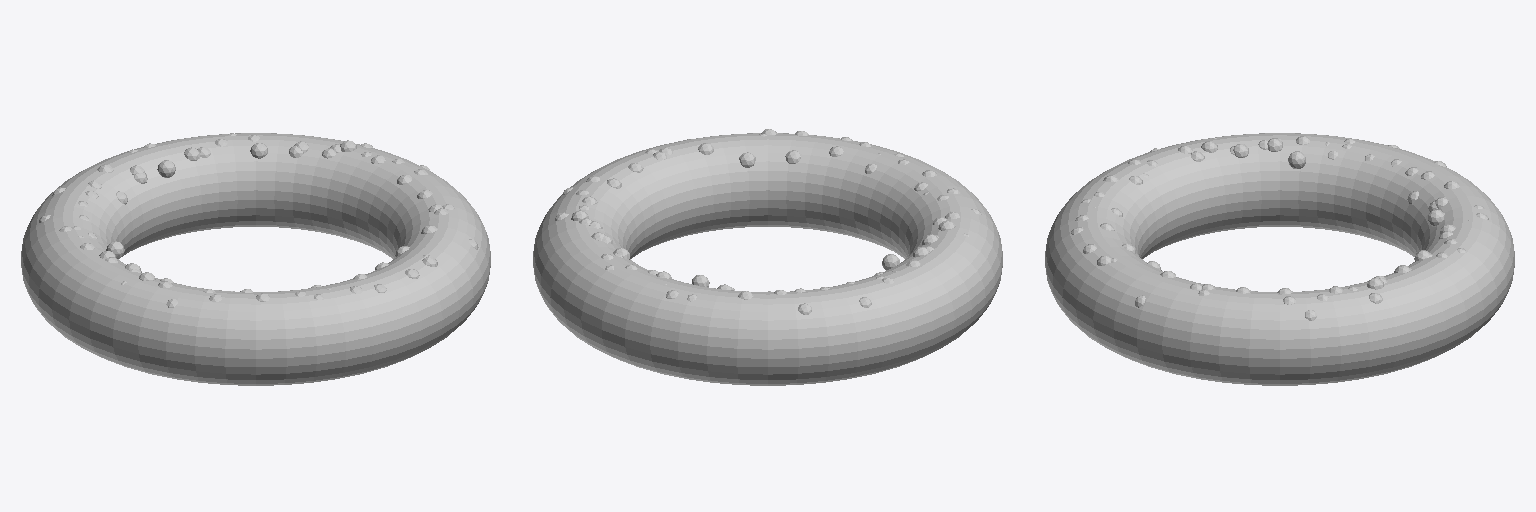
Rendered from donut1.obj.
3 views of the same model, side by side, from view 1: azimuth 30°, elevation 25°; view 2: azimuth 150°, elevation 25°; view 3: azimuth 270°, elevation 25° (orthographic).
Visible parts, largest first — view 1: Torus; view 2: Torus; view 3: Torus.
Part boxes in pixels (left/top/right/bottom): Torus: left=21, top=133, right=490, bottom=385; Torus: left=533, top=133, right=1002, bottom=385; Torus: left=1045, top=133, right=1514, bottom=385.
Bounding box in the file's own units: 2.5 × 0.5378 × 2.5.